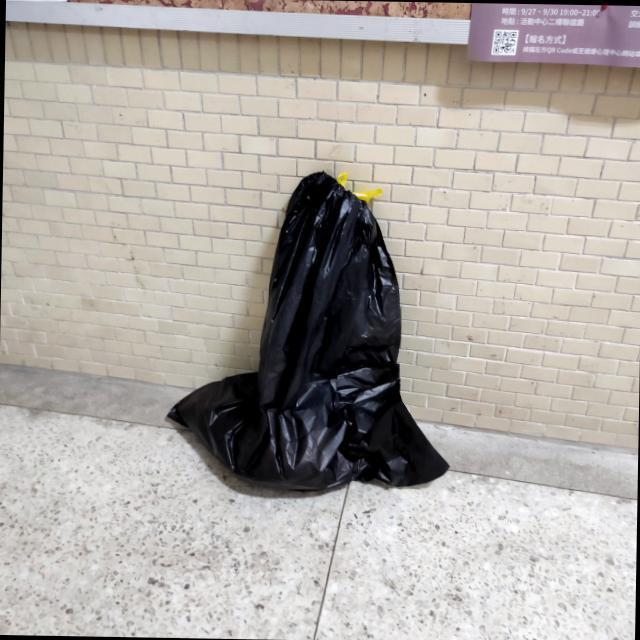garbage: (149, 140, 466, 502)
